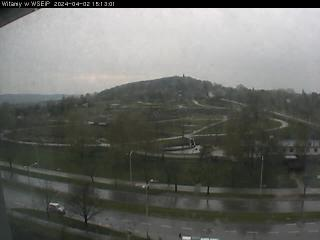car: (47, 202, 65, 214)
